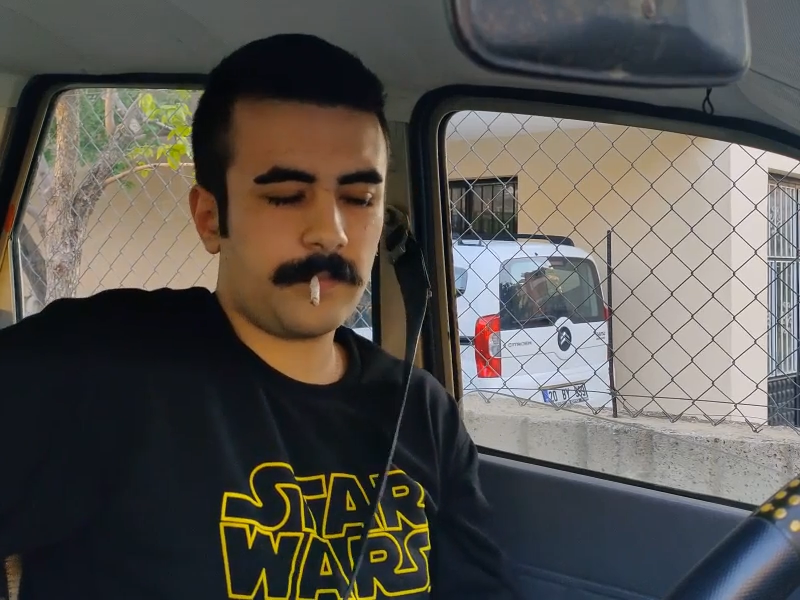sigara: (304, 269, 324, 311)
